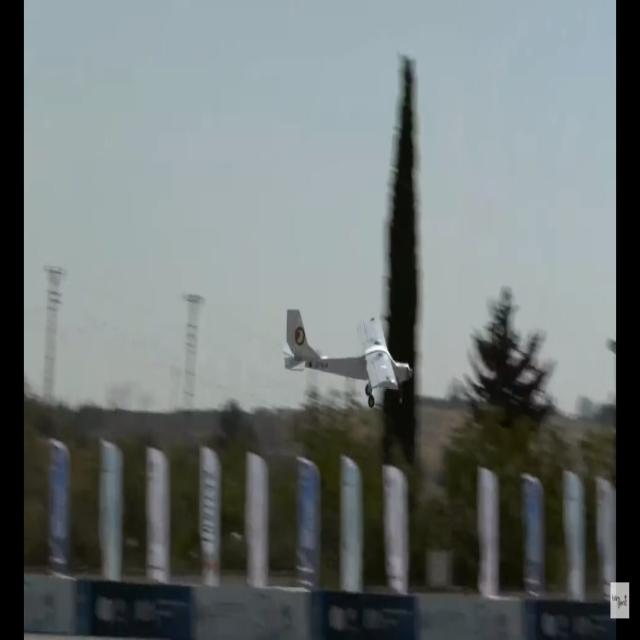iha: (282, 338, 414, 378)
